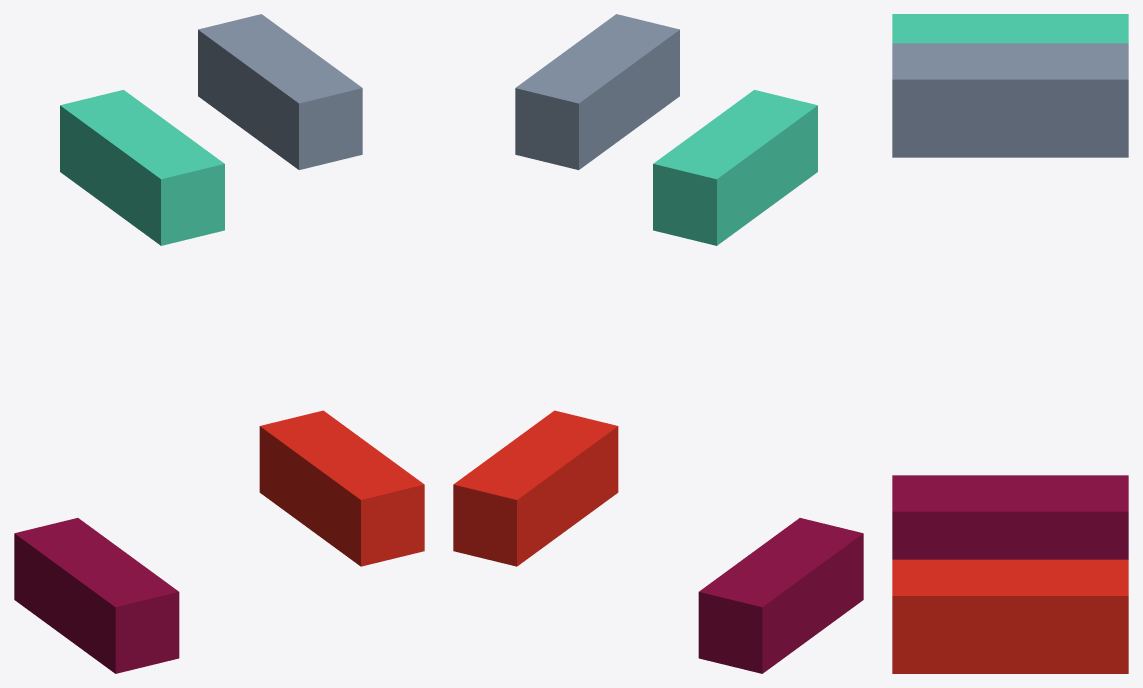
The picture shows the model from 3 angles, left to right: view 1: azimuth 30°, elevation 25°; view 2: azimuth 150°, elevation 25°; view 3: azimuth 270°, elevation 25°; orthographic projection. The views are drawn at different scales.
Parts seen in each view (by area): view 1: Object_3, Object_1, Object_4, Object_2; view 2: Object_3, Object_1, Object_4, Object_2; view 3: Object_2, Object_3, Object_1, Object_4.
Boxes of the visible parts, left/top/right/bottom form: Object_3: left=259, top=410, right=424, bottom=566; Object_1: left=14, top=518, right=179, bottom=673; Object_4: left=60, top=90, right=224, bottom=245; Object_2: left=198, top=14, right=362, bottom=169; Object_3: left=453, top=410, right=618, bottom=566; Object_1: left=698, top=518, right=863, bottom=673; Object_4: left=653, top=90, right=817, bottom=245; Object_2: left=515, top=14, right=679, bottom=169; Object_2: left=892, top=43, right=1128, bottom=157; Object_3: left=892, top=559, right=1128, bottom=673; Object_1: left=892, top=475, right=1128, bottom=559; Object_4: left=892, top=14, right=1128, bottom=43.
Size of the model in its own units: 14560 by 8256 by 23661.
